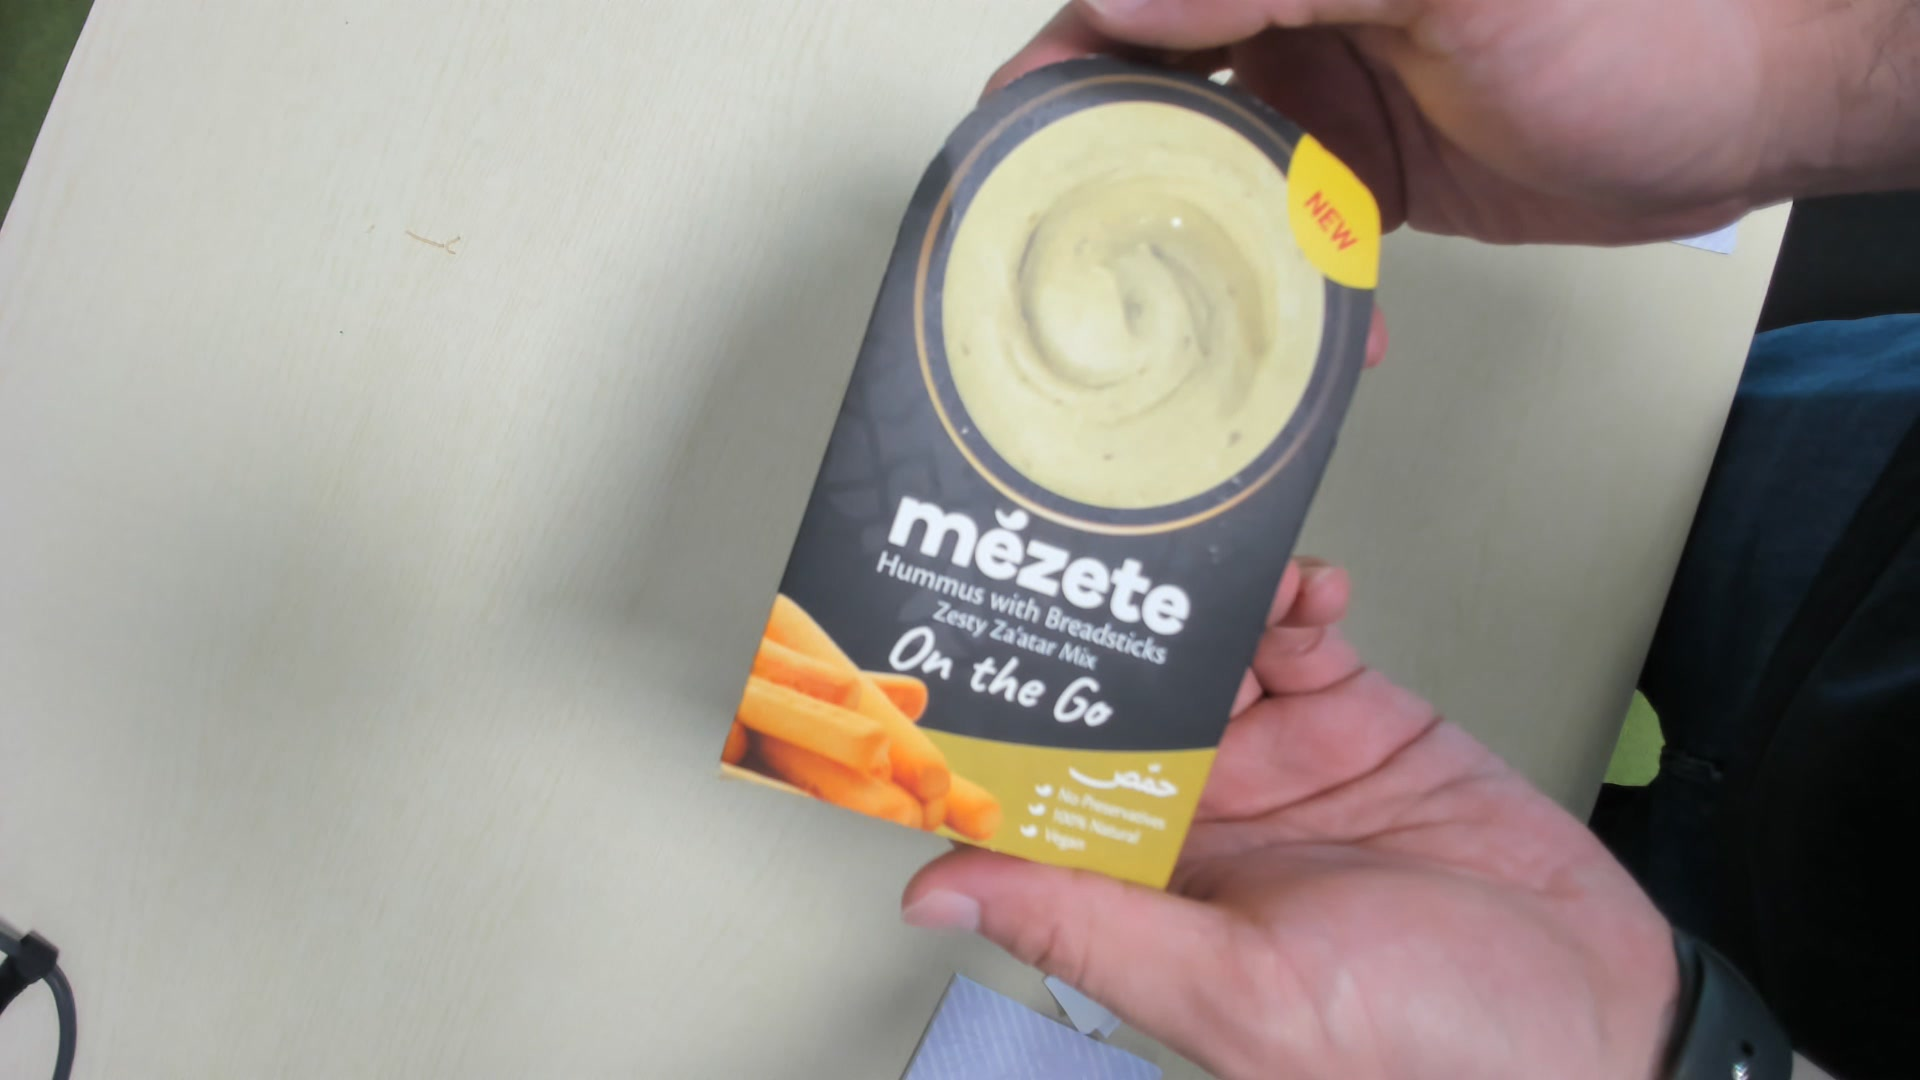InstantMeals_0-99g_NonHalal_NonHealthy: (728, 44, 1383, 893)
